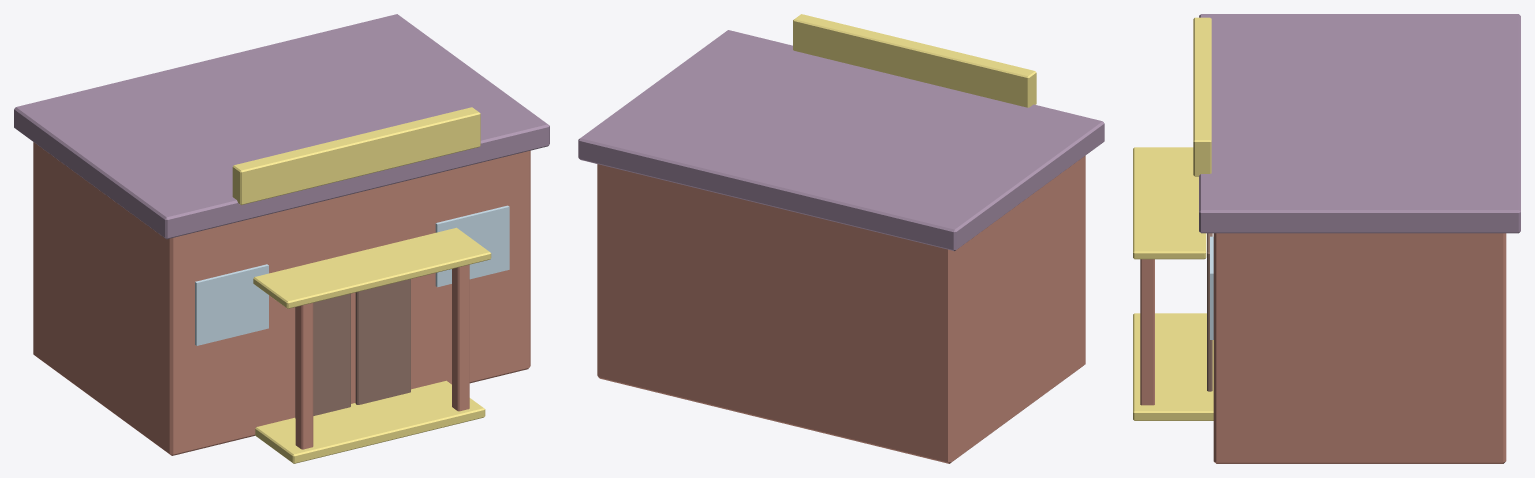
The picture shows the model from 3 angles, left to right: view 1: azimuth 30°, elevation 25°; view 2: azimuth 150°, elevation 25°; view 3: azimuth 270°, elevation 25°; orthographic projection. The views are drawn at different scales.
Parts seen in each view (by area): view 1: po_01; view 2: po_01; view 3: po_01.
Part boxes in pixels (x1,y1,x2,y2): po_01: [14, 14, 549, 463]; po_01: [578, 14, 1104, 463]; po_01: [1133, 14, 1520, 463].
Bounding box in the file's own units: 6.4 × 4.43 × 5.3.
